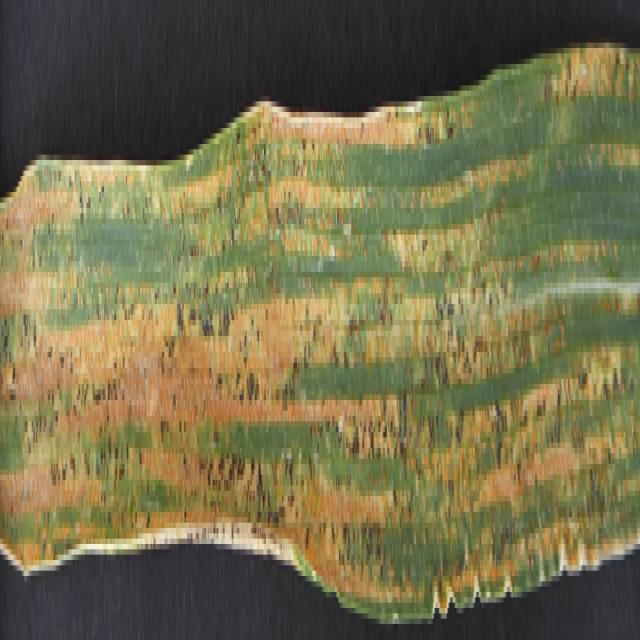leaf rust: (0, 26, 640, 581)
